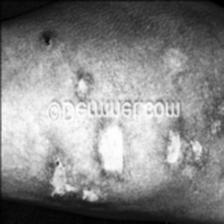Non-Cancerous Skin Condition: (156, 100, 224, 172), (96, 119, 128, 176), (46, 168, 96, 204), (72, 72, 96, 102), (41, 26, 56, 54)
